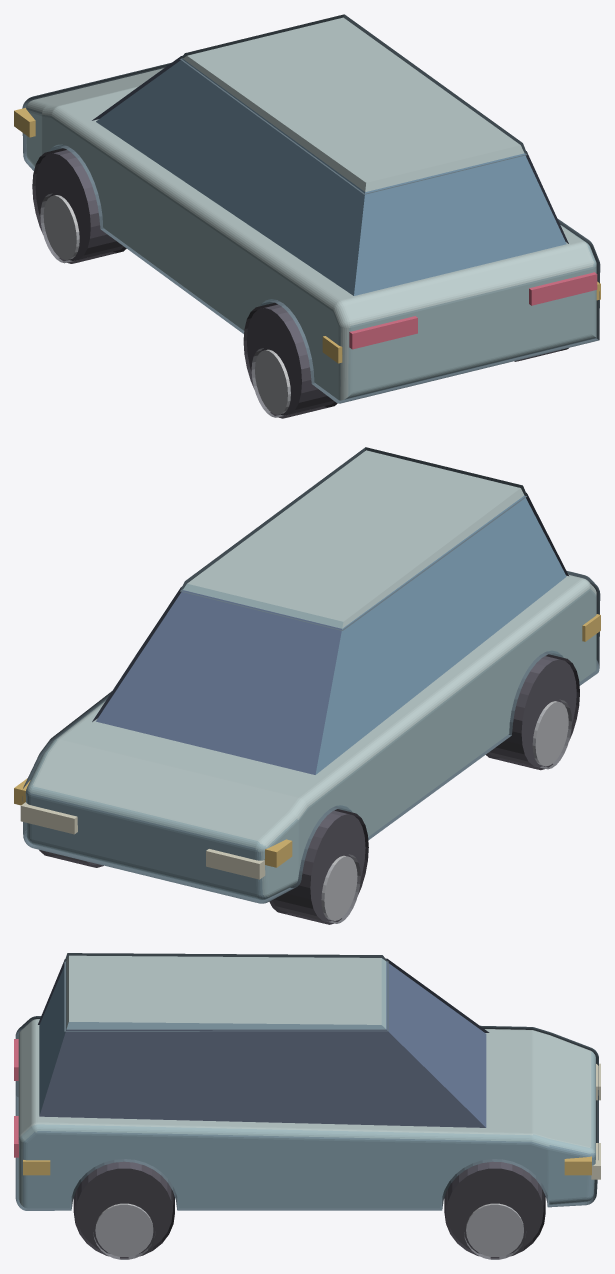
The model's file is traffic_hatch_1.glb.
3 views of the same model, one above another, from view 1: azimuth 30°, elevation 25°; view 2: azimuth 150°, elevation 25°; view 3: azimuth 270°, elevation 25° (orthographic). The views are drawn at different scales.
Visible parts, largest first — view 1: car, blink; view 2: car, blink; view 3: car, blink.
Part boxes in pixels (x1,y1,x2,y2): car: (22,14,600,418); blink: (14,108,600,363); car: (20,447,600,924); blink: (14,614,600,867); car: (14,953,600,1259); blink: (23,1156,591,1175).
Size of the model in its own units: 1.91 by 1.55 by 3.88.
